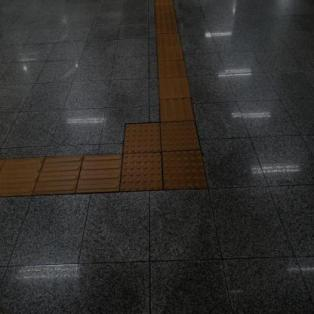Podoctatil: (98, 97, 224, 218), (0, 149, 119, 198), (152, 0, 194, 122)
